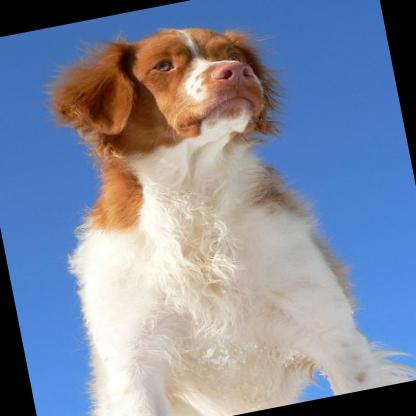Brittany_spaniel: (16, 0, 416, 416)
